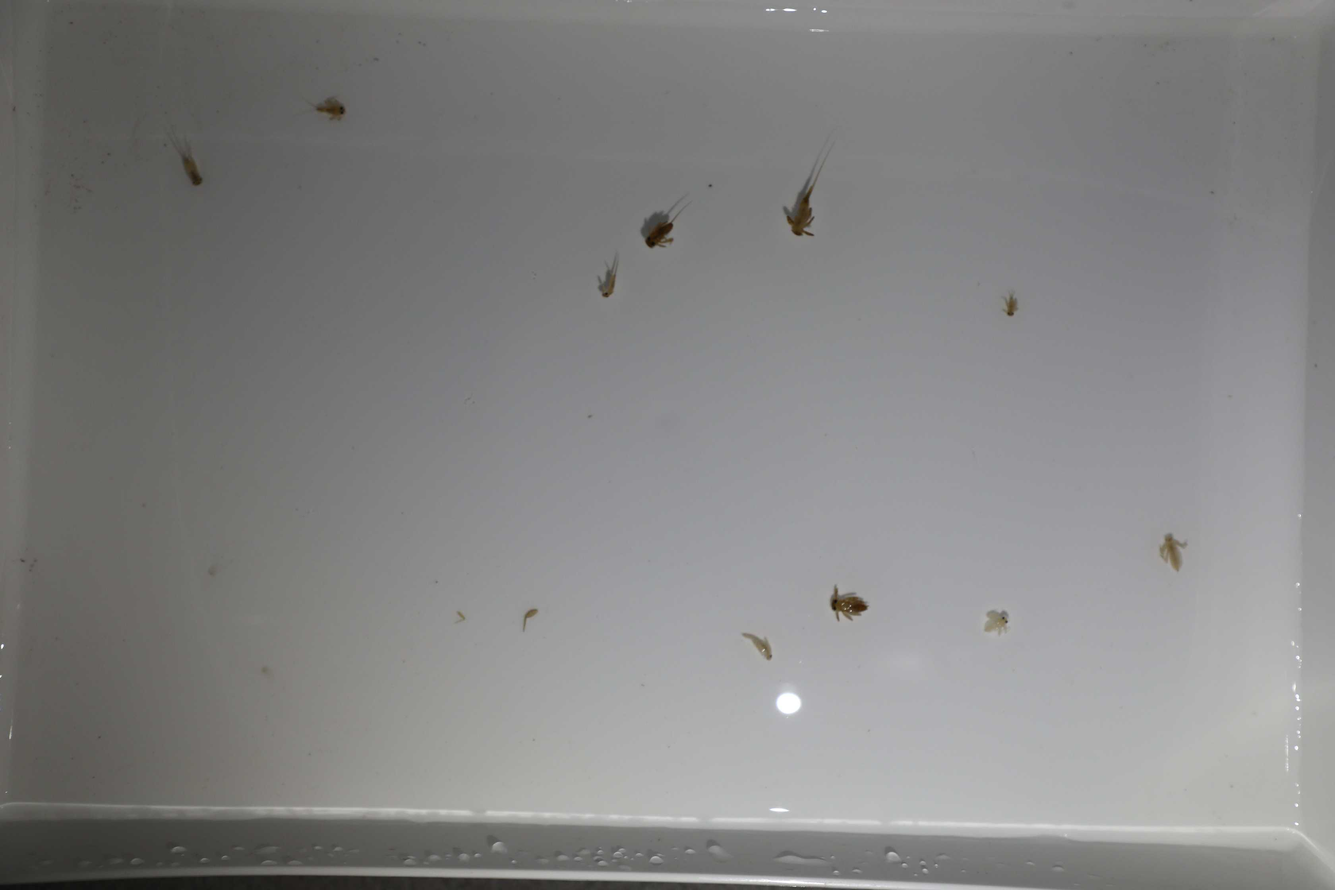Mayfly: (781, 140, 839, 238), (642, 195, 689, 258), (819, 576, 877, 626), (1156, 523, 1192, 585), (167, 134, 206, 190), (304, 92, 352, 125), (596, 248, 619, 307), (743, 629, 778, 665), (981, 601, 1015, 636), (1001, 287, 1022, 319)
